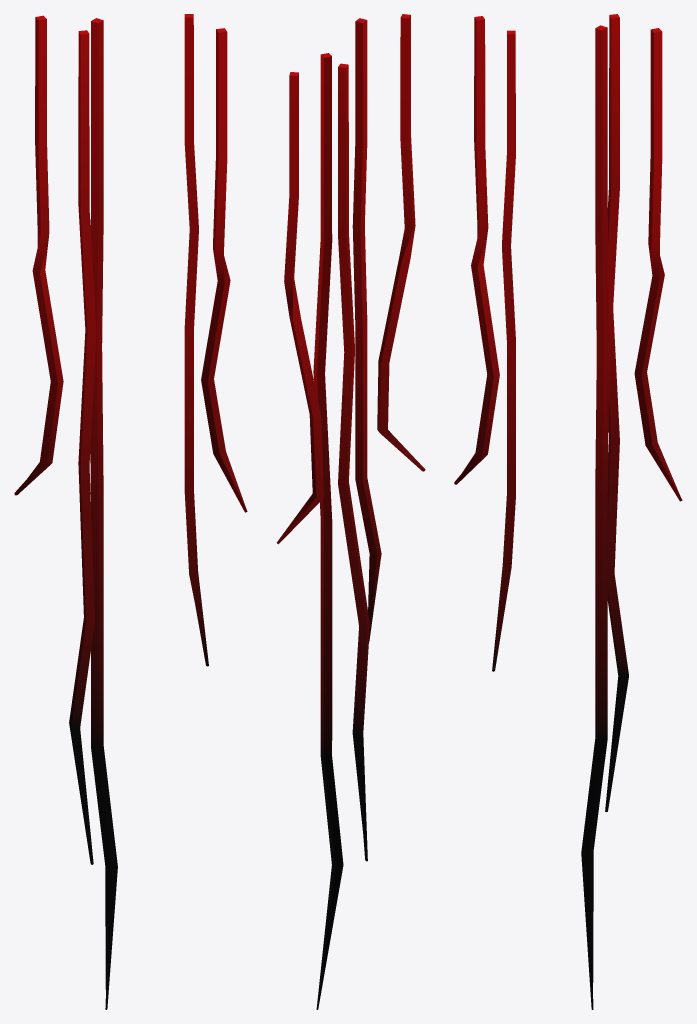
File: SM_Tree_Vines_04.gltf
The picture shows the model from 3 angles, left to right: view 1: azimuth 90°, elevation 25°; view 2: azimuth 150°, elevation 25°; view 3: azimuth 270°, elevation 25°; orthographic projection. The views are drawn at different scales.
Parts seen in each view (by area): view 1: SM_Tree_Vines_04; view 2: SM_Tree_Vines_04; view 3: SM_Tree_Vines_04.
Part boxes in pixels (box(x1,y1,x2,y2)): SM_Tree_Vines_04: box(14, 14, 247, 1009); SM_Tree_Vines_04: box(276, 14, 425, 1009); SM_Tree_Vines_04: box(454, 14, 682, 1009).
Bounding box in the file's own units: 0.3319 × 4.67 × 0.99.
